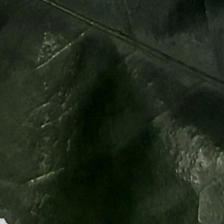healthy: (5, 6, 224, 219)
